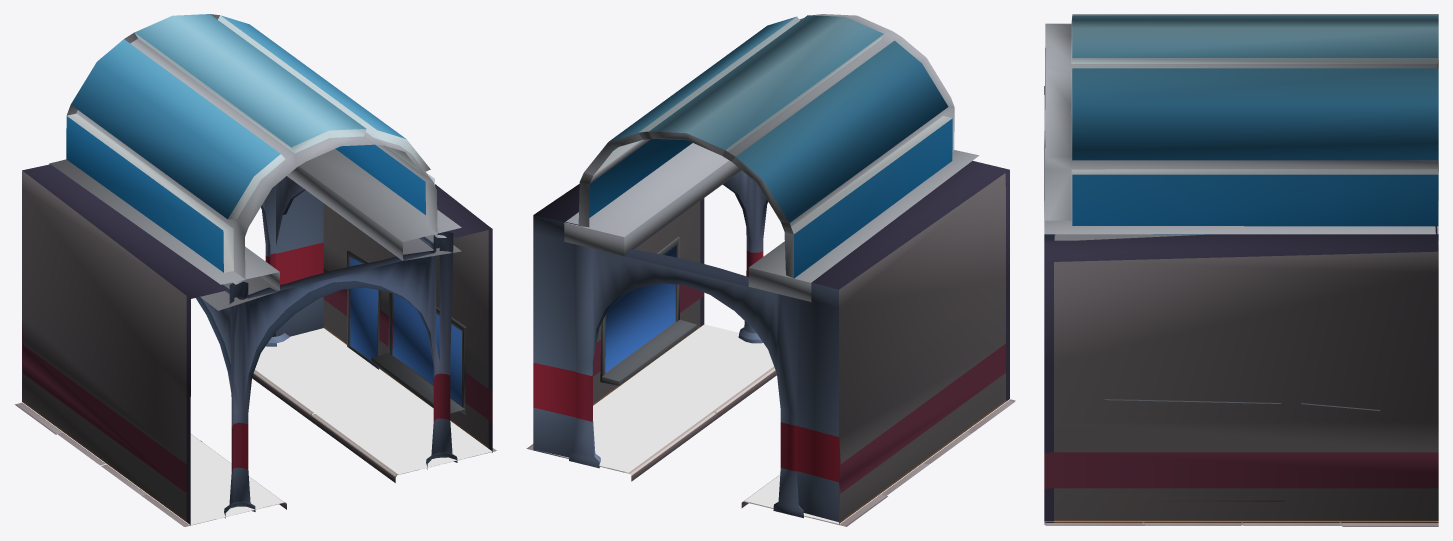
Rendered from CityTunnelInsideMiddleSet_08_10.fbx.
The picture shows the model from 3 angles, left to right: view 1: azimuth 30°, elevation 25°; view 2: azimuth 150°, elevation 25°; view 3: azimuth 270°, elevation 25°; orthographic projection. The views are drawn at different scales.
Parts seen in each view (by area): view 1: a, shadows; view 2: a, shadows; view 3: a.
Boxes of the visible parts, x1=… form: a: x1=14, y1=14, x2=496, y2=526; shadows: x1=21, y1=328, x2=492, y2=525; a: x1=526, y1=14, x2=1015, y2=526; shadows: x1=544, y1=324, x2=1010, y2=524; a: x1=1044, y1=14, x2=1438, y2=526.
Size of the model in its own units: 1081 by 1168 by 1000.
